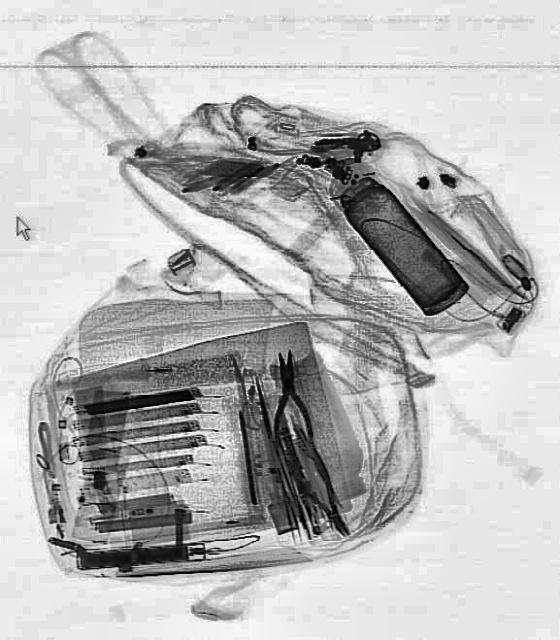Pliers: (274, 429, 364, 546), (262, 348, 313, 448)
